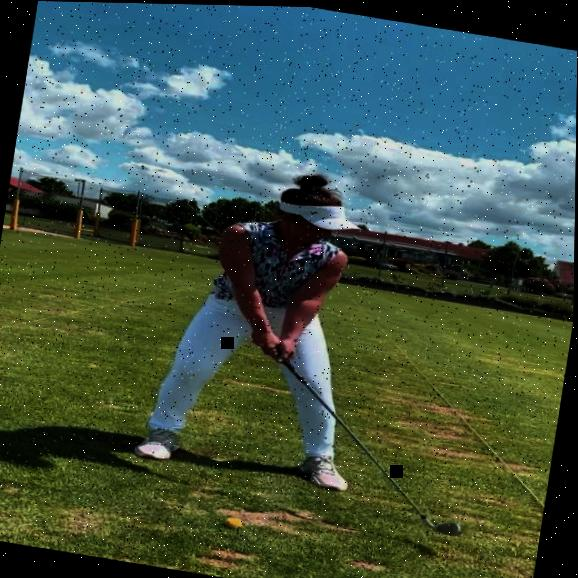ClubHead: (436, 517, 465, 536)
GolfBall: (224, 514, 247, 528)
